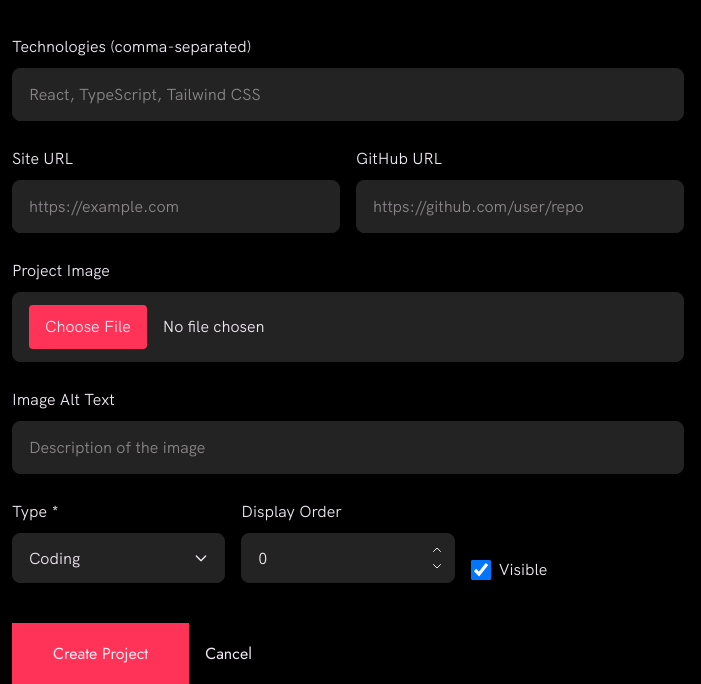
Test: ProjectForm › Display Order Buttons › decrements display order with down button
(page scrolled)
Replace the text in the number field labelled "Display Order" with "5": (348, 558) [241,533,455,583]
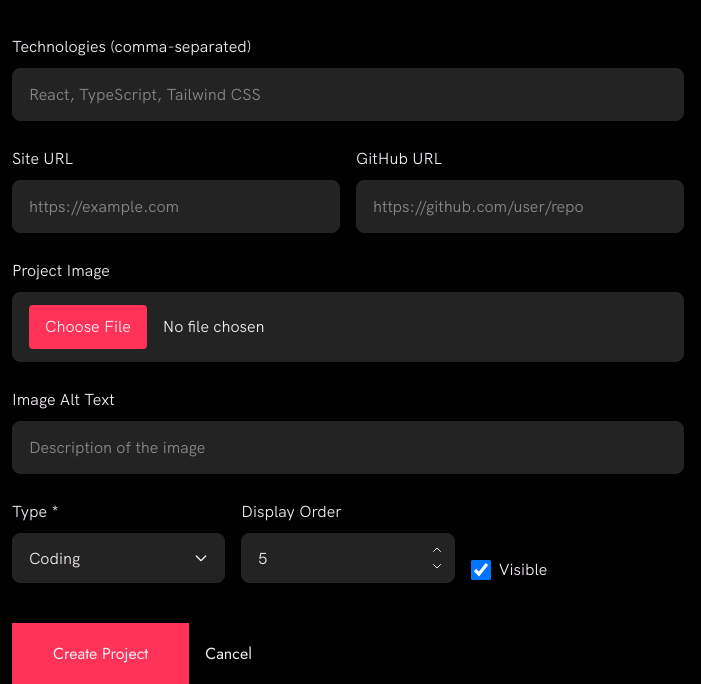
Click the 2nd button: (437, 566) [431,560,443,572]
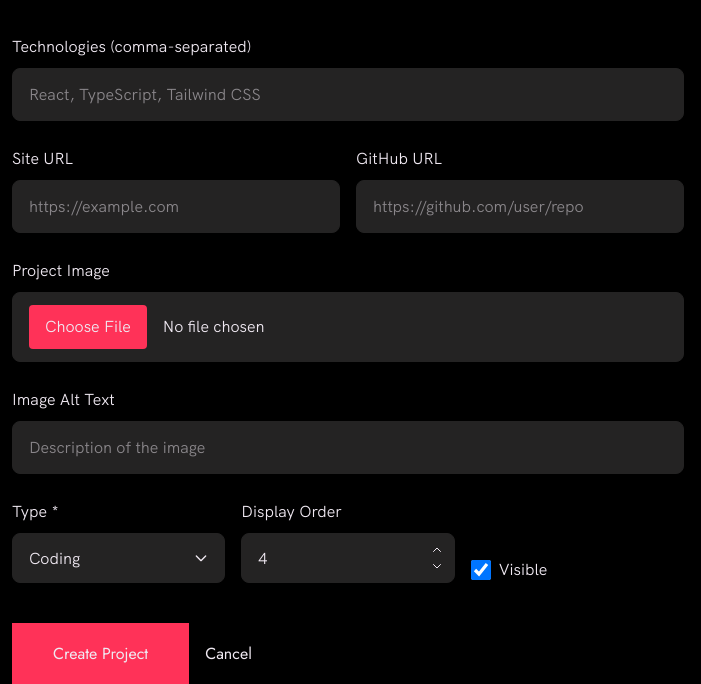
Now the number field labelled "Display Order" holds "4", box [241,533,455,583]
